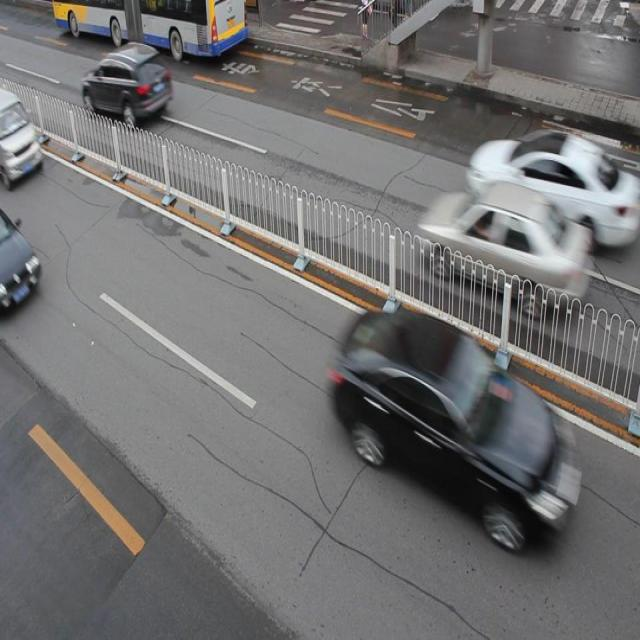car: (333, 308, 571, 548), (423, 183, 586, 315), (467, 130, 620, 240), (82, 42, 174, 125), (1, 210, 42, 315)
truck: (1, 85, 43, 186)
van: (53, 1, 247, 57)
